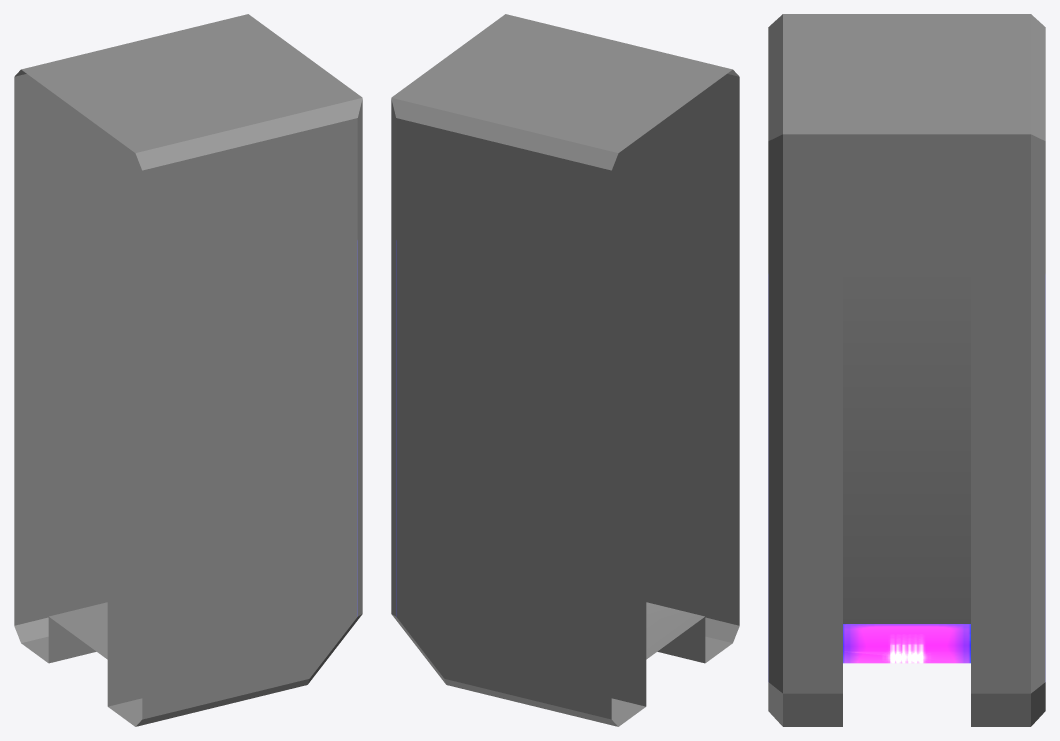
The model's file is Cit_Light_01.FBX.
3 views of the same model, side by side, from view 1: azimuth 30°, elevation 25°; view 2: azimuth 150°, elevation 25°; view 3: azimuth 270°, elevation 25° (orthographic). The views are drawn at different scales.
Parts seen in each view (by area): view 1: Cit_Light_01; view 2: Cit_Light_01; view 3: Cit_Light_01.
Boxes of the visible parts, left/top/right/bottom form: Cit_Light_01: left=14, top=14, right=362, bottom=726; Cit_Light_01: left=391, top=14, right=739, bottom=726; Cit_Light_01: left=768, top=14, right=1045, bottom=726.
Size of the model in its own units: 0.2833 by 0.6832 by 0.2764.
